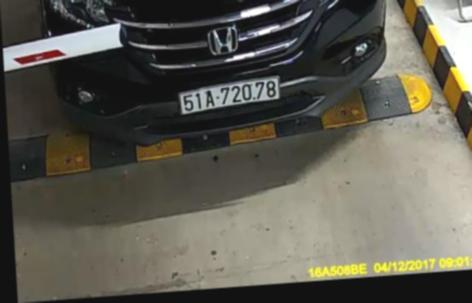License_Plate: (177, 79, 278, 114)
